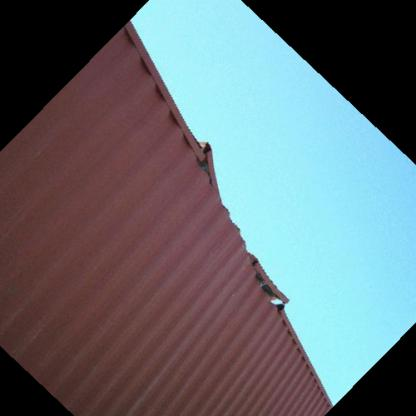Damage: (180, 124, 241, 222), (237, 248, 304, 316)
